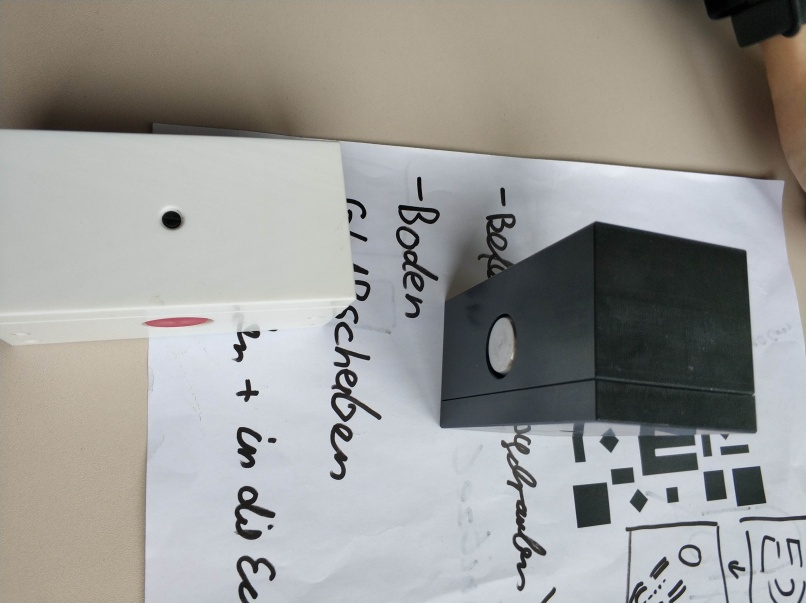black+black+silver: (437, 217, 759, 440)
white+white+red: (1, 124, 361, 349)
